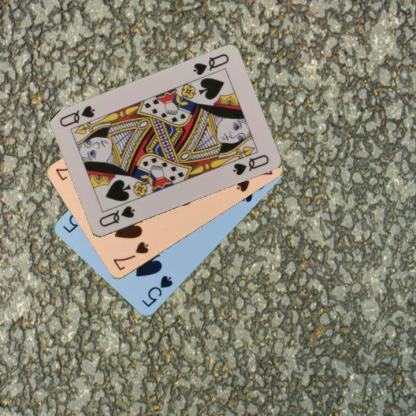5s: (138, 273, 174, 309)
7s: (110, 239, 150, 273)
Qs: (96, 203, 136, 229), (190, 52, 230, 78)
